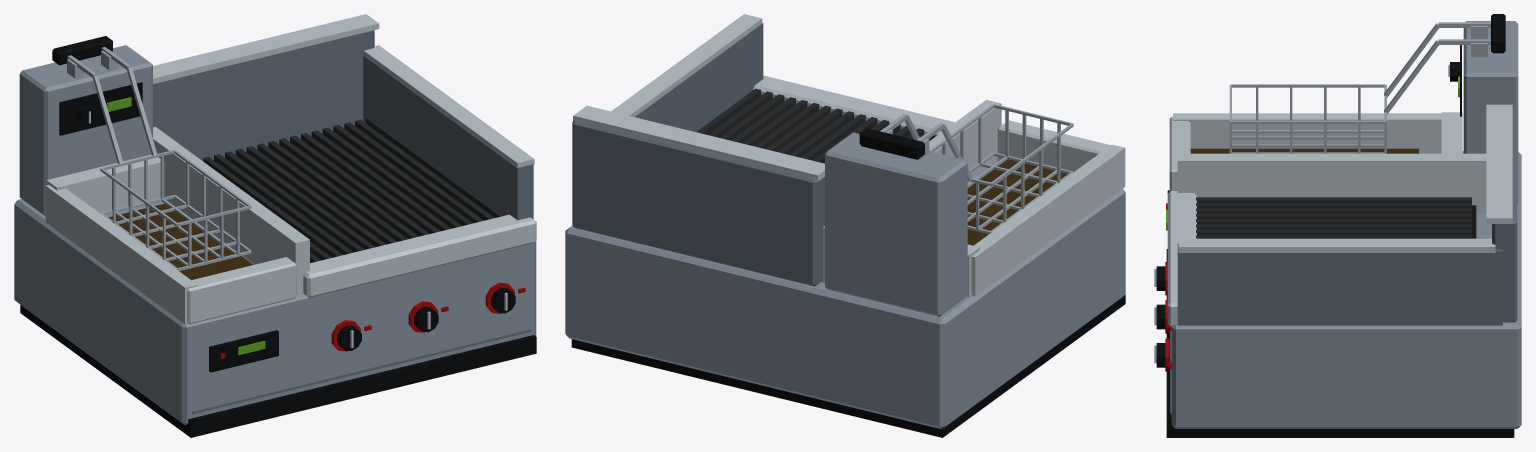
Rendered from BurgerStation.fbx.
3 renders of one model, left to right at view 1: azimuth 30°, elevation 25°; view 2: azimuth 150°, elevation 25°; view 3: azimuth 270°, elevation 25°, orthographic. The views are drawn at different scales.
Visible parts, largest first — view 1: BurgerStation_Body; view 2: BurgerStation_Body; view 3: BurgerStation_Body.
Part boxes in pixels (<box>): BurgerStation_Body: <box>14,14,536,437</box>; BurgerStation_Body: <box>565,14,1125,437</box>; BurgerStation_Body: <box>1154,14,1521,437</box>.
Size of what is drawn, in the model's own units: 0.396 by 0.279 by 0.3485.
1 material, 1 textured.
